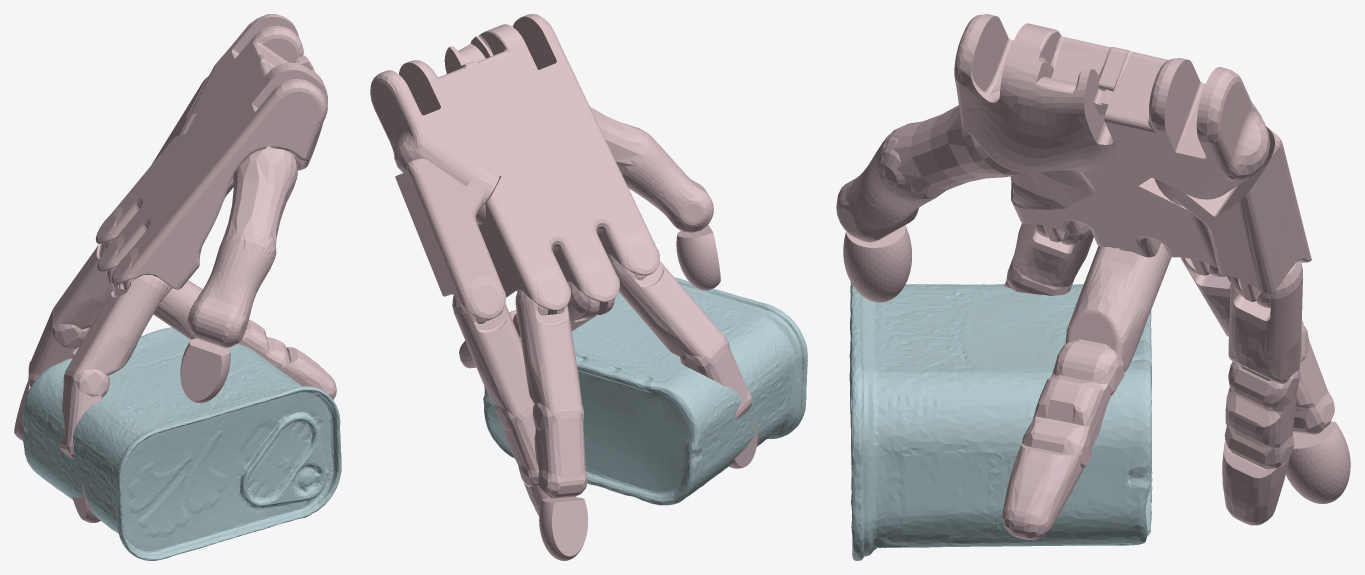
Rendered from grasp_2.glb.
3 views of the same model, side by side, from view 1: azimuth 30°, elevation 25°; view 2: azimuth 150°, elevation 25°; view 3: azimuth 270°, elevation 25° (orthographic). The views are drawn at different scales.
Parts seen in each view (by area): view 1: world; view 2: world; view 3: world.
Boxes of the visible parts, bbox=[...] form: world: bbox=[14, 14, 341, 560]; world: bbox=[370, 14, 807, 560]; world: bbox=[836, 14, 1350, 560].
Bounding box in the file's own units: 0.1386 × 0.1795 × 0.142.
